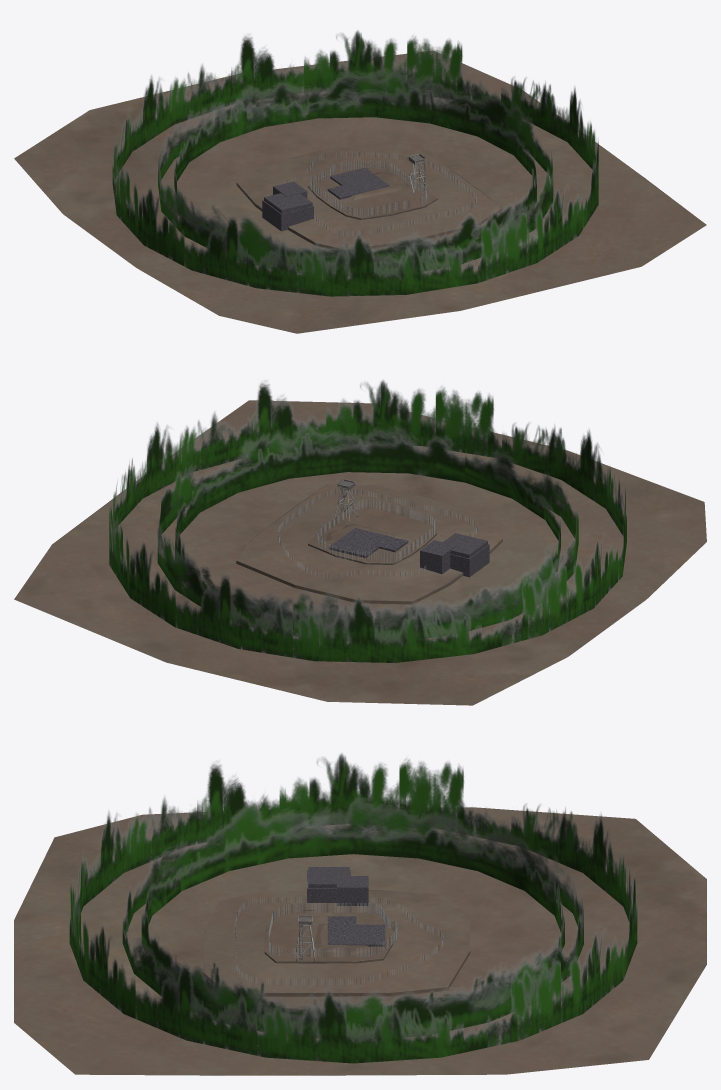
The model's file is env.glb.
3 views of the same model, one above another, from view 1: azimuth 30°, elevation 25°; view 2: azimuth 150°, elevation 25°; view 3: azimuth 270°, elevation 25° (orthographic). The views are drawn at different scales.
Visible parts, largest first — view 1: Plane, Cylinder, Cube.001, Circle, Cube.004, Circle.001; view 2: Plane, Cylinder, Cube.001, Circle, Cube.004, Circle.001; view 3: Plane, Cylinder, Cube.001, Circle, Cube.004, Circle.001.
Boxes of the visible parts, x1,y1,x2,y2 form: Plane: (14, 50, 706, 333); Cylinder: (112, 30, 598, 296); Cube.001: (262, 181, 313, 231); Circle: (309, 160, 427, 216); Cube.004: (327, 168, 389, 199); Circle.001: (285, 152, 476, 236); Plane: (14, 400, 706, 705); Cylinder: (109, 379, 626, 662); Cube.001: (420, 533, 489, 577); Circle: (317, 499, 435, 562); Cube.004: (329, 528, 408, 558); Circle.001: (278, 488, 477, 578); Plane: (14, 807, 706, 1075); Cylinder: (69, 753, 637, 1063); Cube.001: (307, 867, 368, 905); Circle: (268, 903, 397, 957); Cube.004: (327, 916, 385, 946); Circle.001: (235, 897, 443, 985).
Size of the model in its own units: 108 by 17.83 by 118.
Materials: 2 (2 with a texture image).
